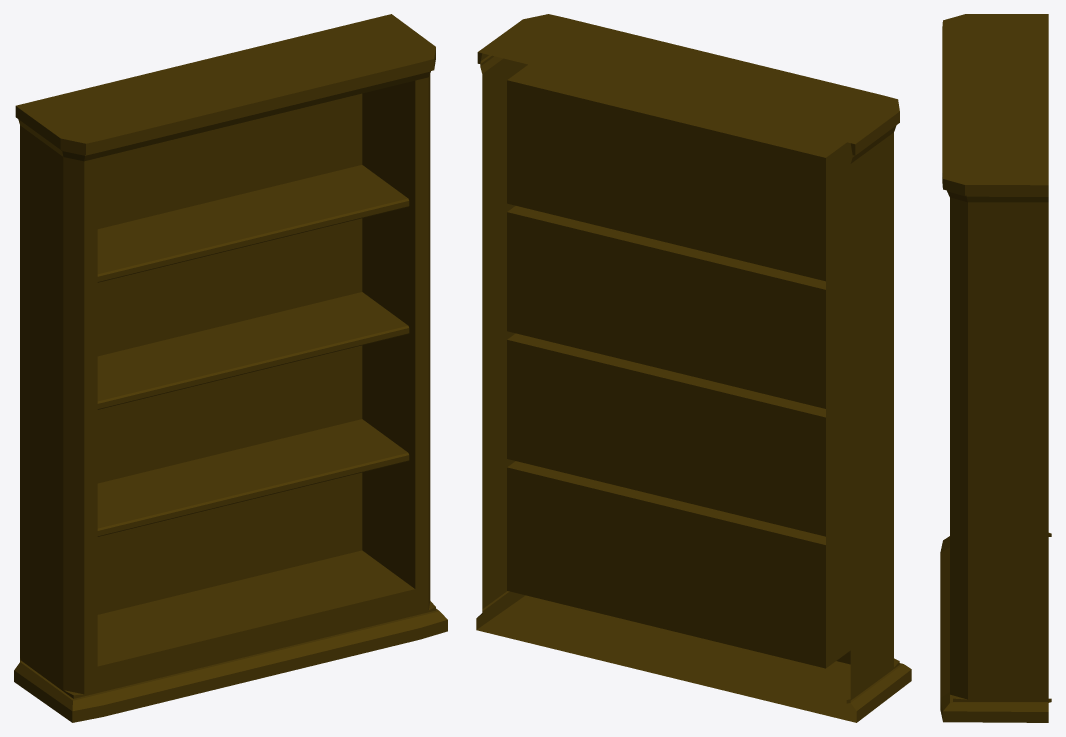
File: shelf.fbx
The picture shows the model from 3 angles, left to right: view 1: azimuth 30°, elevation 25°; view 2: azimuth 150°, elevation 25°; view 3: azimuth 270°, elevation 25°; orthographic projection. The views are drawn at different scales.
Parts seen in each view (by area): view 1: shelf; view 2: shelf; view 3: shelf.
Part boxes in pixels (x1,y1,x2,y2): shelf: (14,14,447,722); shelf: (476,14,911,722); shelf: (940,14,1051,722).
Bounding box in the file's own units: 207 × 300 × 56.51.
